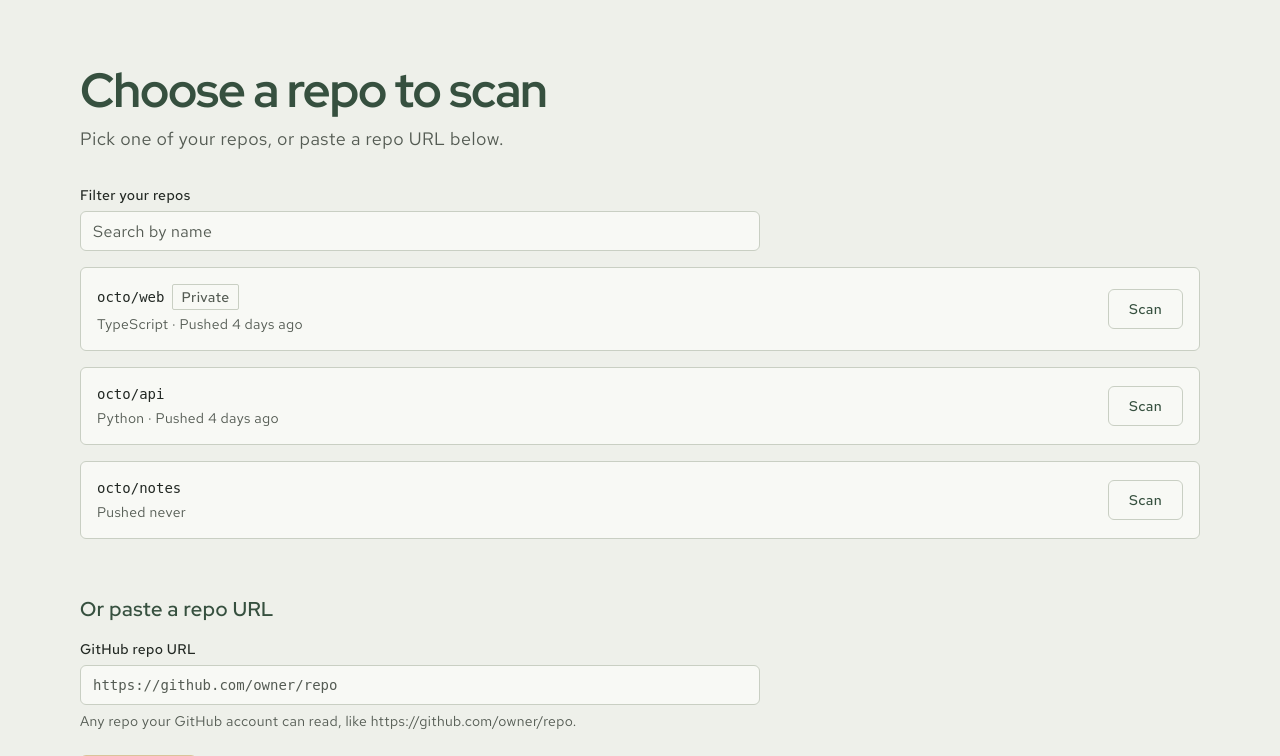
Scenario: when you're signed in › filters by name
Expected: the list named "Your repos" is shown, [80,267,1200,540]
Type "API" into the search field labelled "Filter your repos" at (420, 231), box [80,211,760,251]
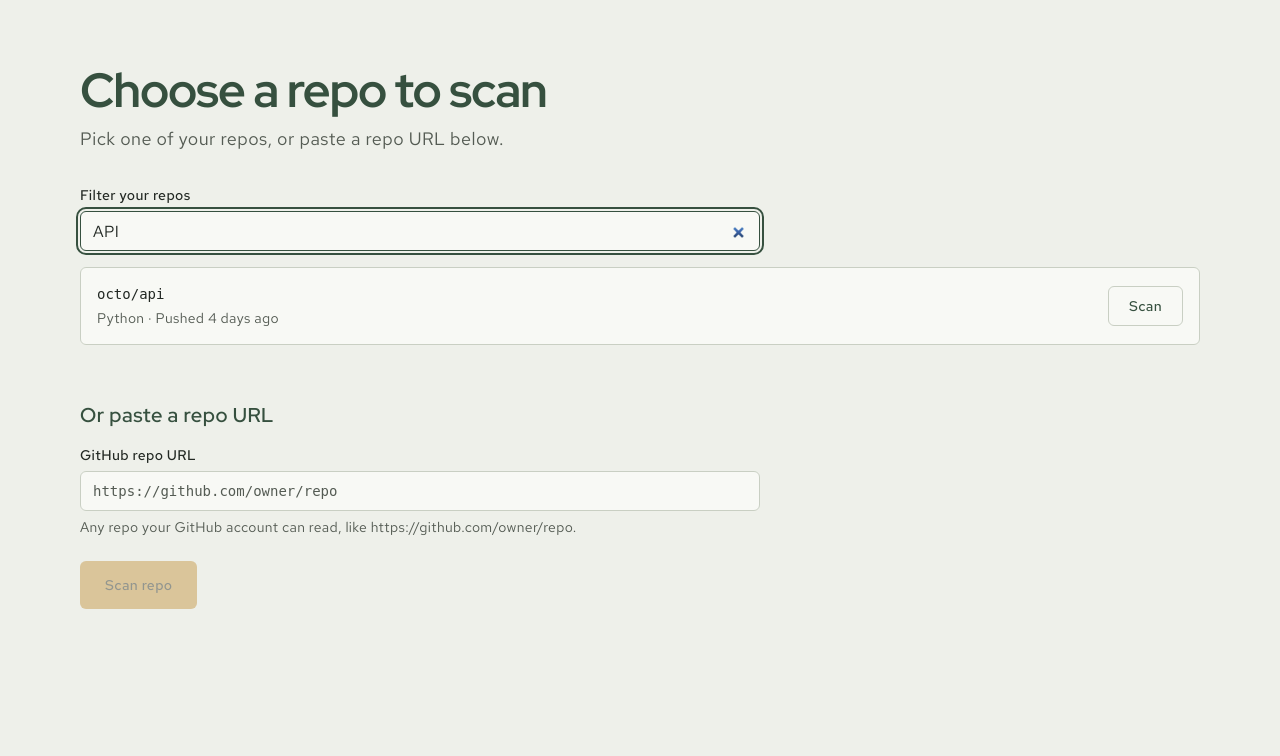
Expected: the text "octo/api" is shown, [97,284,164,304]
Now the number of list items is 1, box [80,267,1200,345]
Replace the text in the search field labelled "Filter your repos" with "zzz" at (420, 231), box [80,211,760,251]
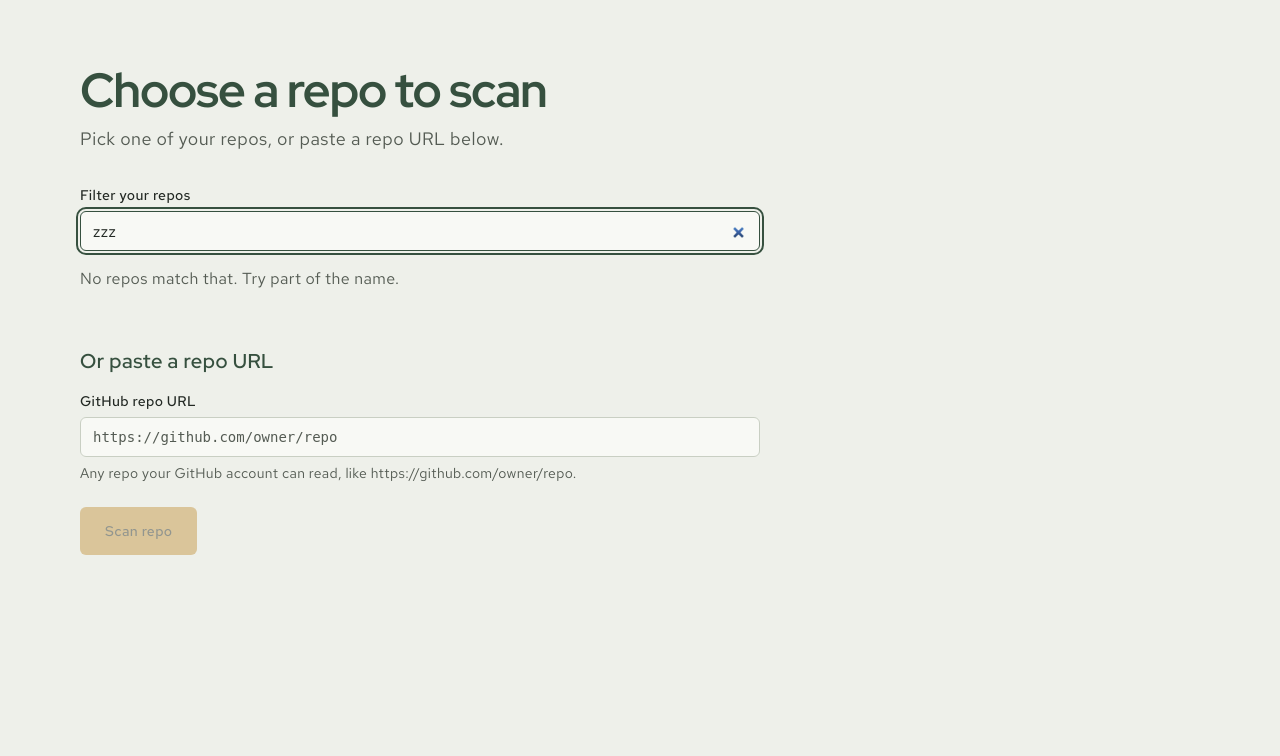
Now the text "No repos match that. Try part of the name." is shown, box [80,268,400,289]
